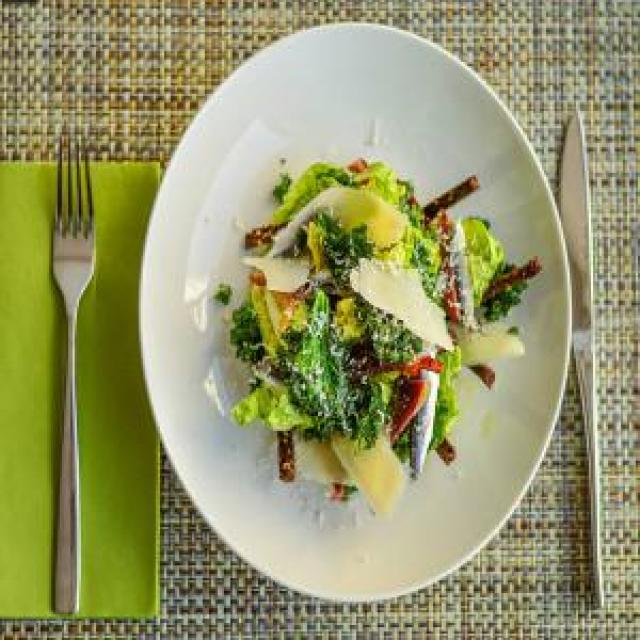knife: (546, 96, 604, 627)
